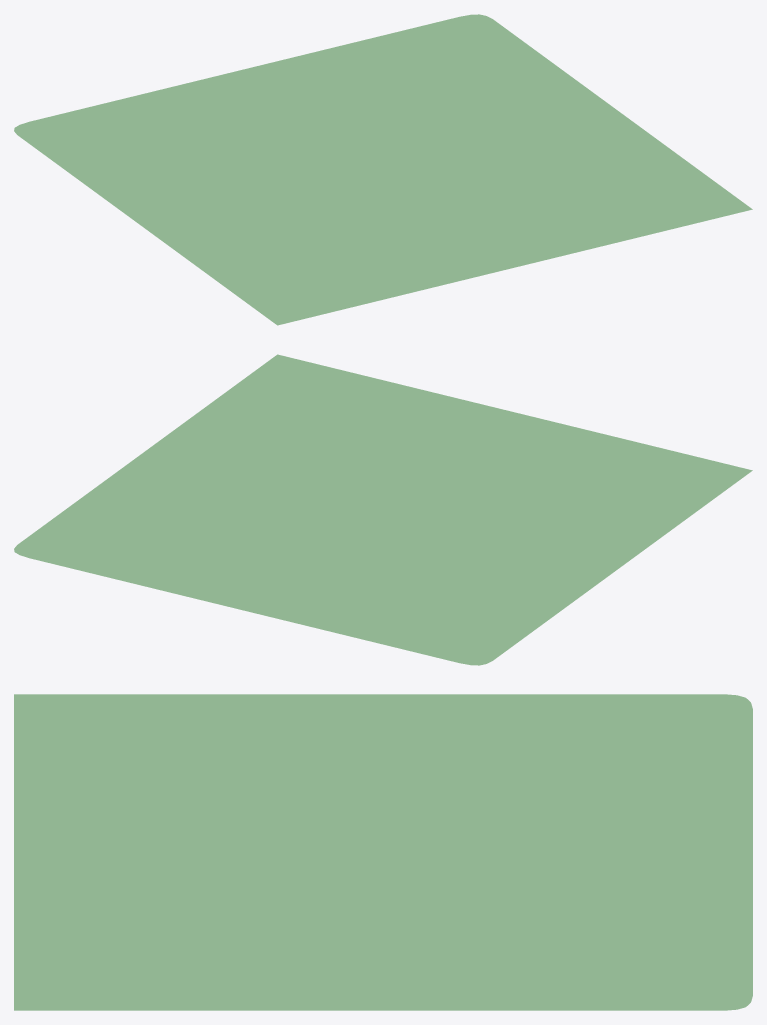
The model's file is GrassZone1.fbx.
The picture shows the model from 3 angles, top to bottom: view 1: azimuth 30°, elevation 25°; view 2: azimuth 150°, elevation 25°; view 3: azimuth 270°, elevation 25°; orthographic projection. The views are drawn at different scales.
Visible parts, largest first — view 1: GrassZone3__7__005; view 2: GrassZone3__7__005; view 3: GrassZone3__7__005.
Boxes of the visible parts, x1,y1,x2,y2 form: GrassZone3__7__005: (14,14,752,325); GrassZone3__7__005: (14,354,752,665); GrassZone3__7__005: (14,694,752,1010).
Bounding box in the file's own units: 2119 × 8.65e-08 × 2090.
